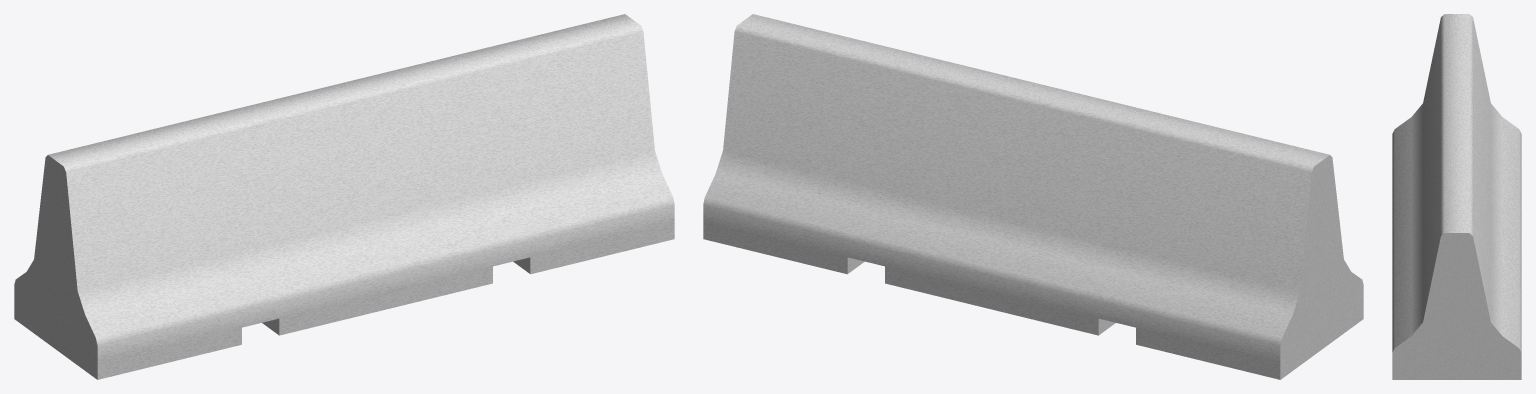
File: sweethome3d-scopia-traffic-lane-separator.glb
3 renders of one model, left to right at view 1: azimuth 30°, elevation 25°; view 2: azimuth 150°, elevation 25°; view 3: azimuth 270°, elevation 25°, orthographic. The views are drawn at different scales.
Visible parts, largest first — view 1: SeparateurDeVoie_Cube.010; view 2: SeparateurDeVoie_Cube.010; view 3: SeparateurDeVoie_Cube.010.
Part boxes in pixels (box(x1,y1,x2,y2)): SeparateurDeVoie_Cube.010: box(14, 14, 674, 379); SeparateurDeVoie_Cube.010: box(703, 14, 1363, 379); SeparateurDeVoie_Cube.010: box(1392, 14, 1521, 379).
Bounding box in the file's own units: 240 × 75 × 60.
Materials: 1 (1 with a texture image).
